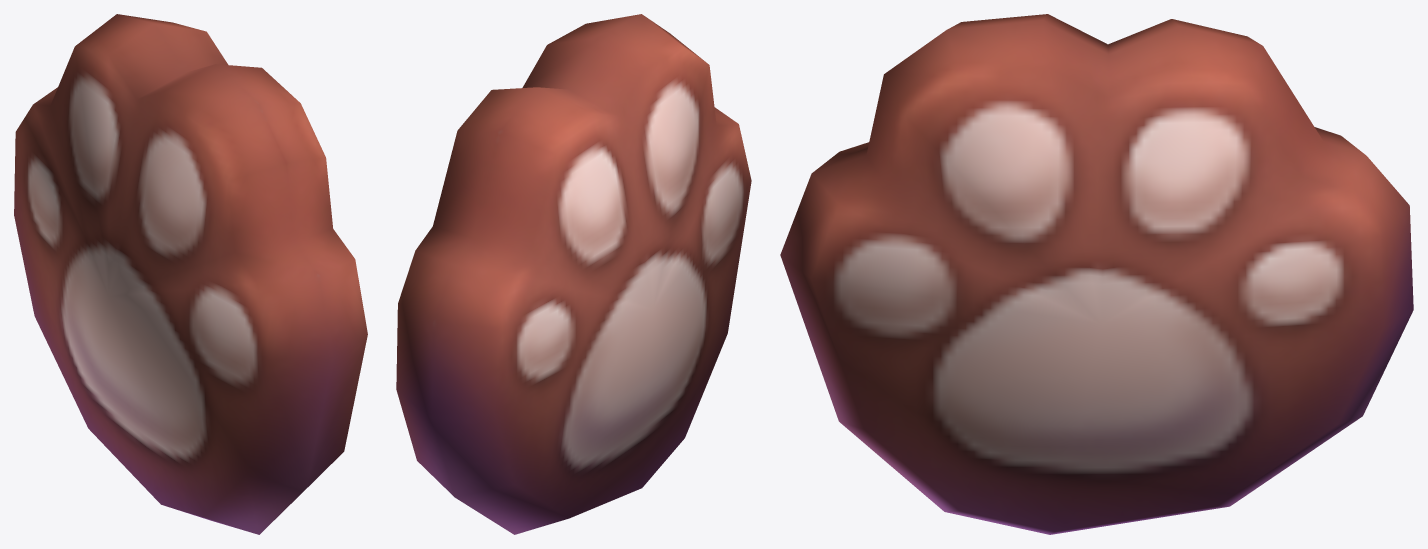
The model's file is scenes_candy_tools04.FBX.
3 views of the same model, side by side, from view 1: azimuth 30°, elevation 25°; view 2: azimuth 150°, elevation 25°; view 3: azimuth 270°, elevation 25° (orthographic). The views are drawn at different scales.
Visible parts, largest first — view 1: scenes_candy_tools04; view 2: scenes_candy_tools04; view 3: scenes_candy_tools04.
Part boxes in pixels (<box>): scenes_candy_tools04: <box>14,14,367,534</box>; scenes_candy_tools04: <box>396,14,751,534</box>; scenes_candy_tools04: <box>780,14,1413,534</box>.
Size of the model in its own units: 32.9 by 89.66 by 100.
